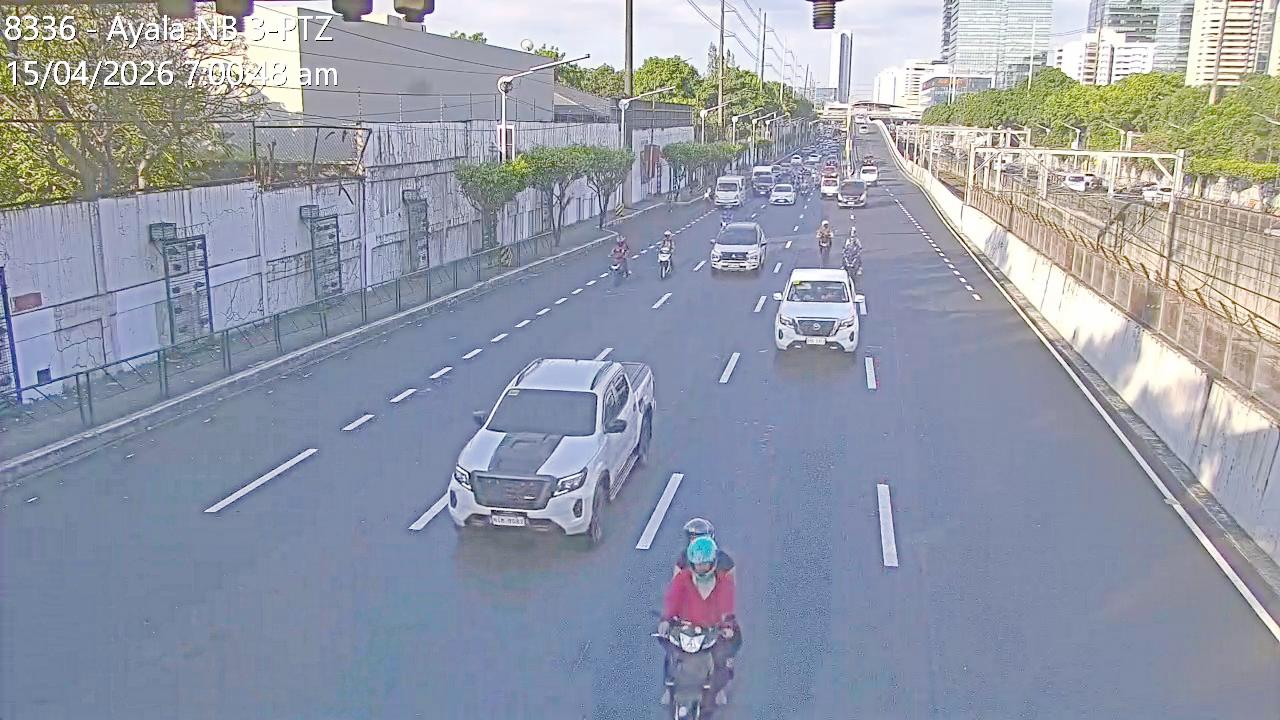Car: (448, 354, 652, 544), (773, 267, 863, 355), (709, 219, 768, 274), (712, 175, 747, 208), (835, 178, 868, 207), (768, 182, 796, 205), (750, 174, 778, 195), (819, 173, 840, 198), (859, 163, 879, 184)
Motor: (651, 526, 737, 714), (650, 238, 674, 278), (842, 239, 862, 279), (815, 219, 832, 262), (609, 248, 631, 281)
Not Accident: (785, 231, 866, 350), (820, 174, 864, 203), (753, 176, 793, 204)
